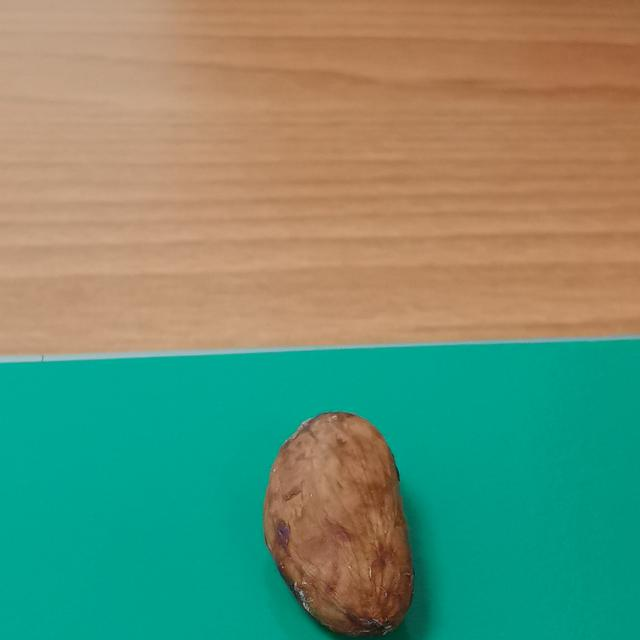Fine_cocoabeans: (198, 370, 466, 640)
